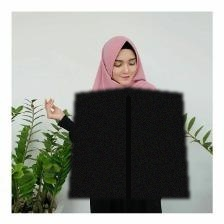Cadar_Niqab: (68, 32, 190, 198)
